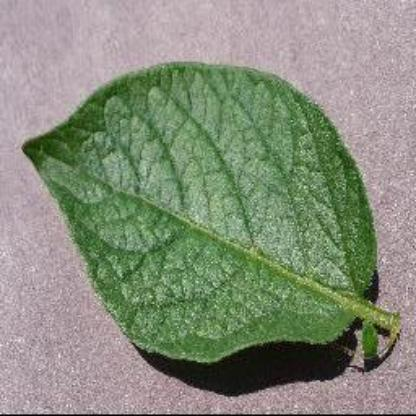Healthy-plant: (21, 55, 404, 369)
